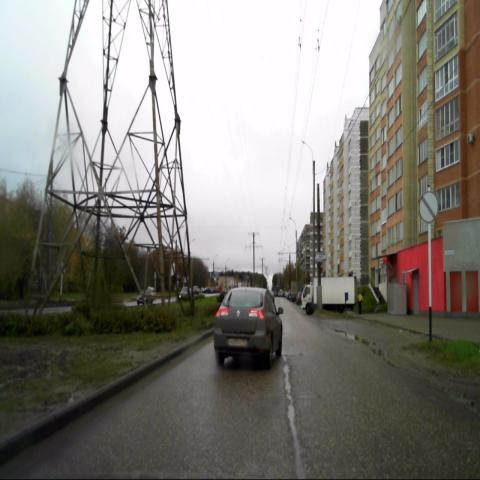3_31: (418, 191, 438, 222)
